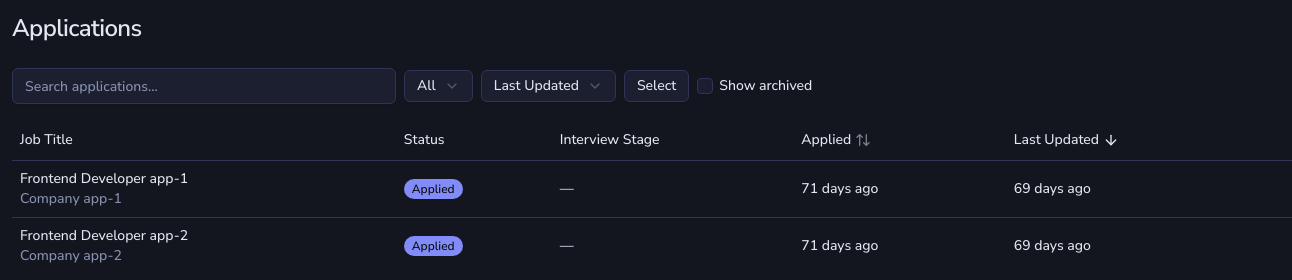
Scenario: ApplicationsList › multi-select mode › exits select mode when Cancel is clicked
Click the button with test id "select-mode-button" at (657, 86), box [624,70,689,102]
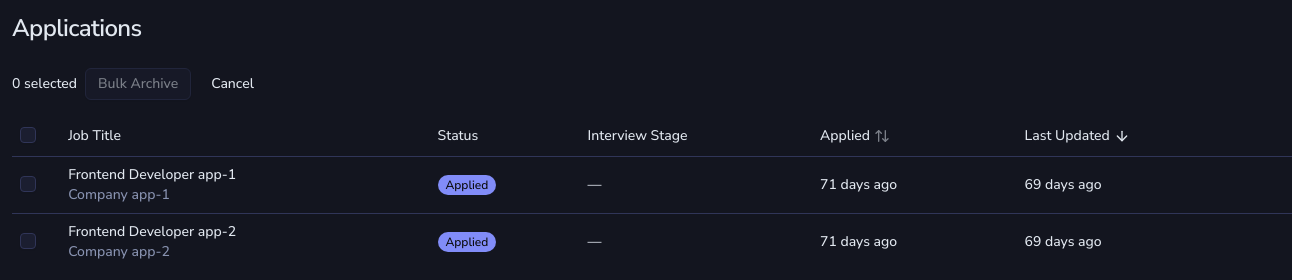
Now the button with test id "cancel-select-button" is shown
Click the button with test id "cancel-select-button" at (233, 84), box [199,68,266,100]
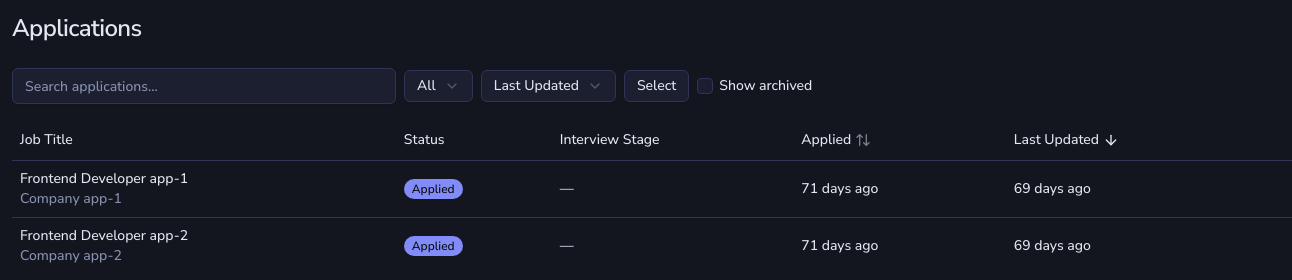
Expected: the button with test id "select-mode-button" is shown, [624,70,689,102]
Now the element with test id "selection-action-bar" is gone
